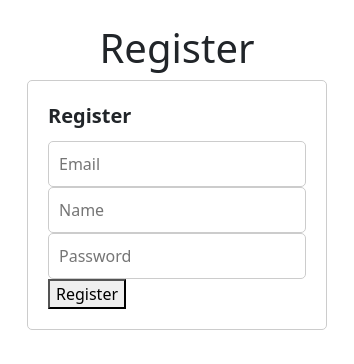
Test case: Register Page › shows an error message if firebase registration fails
Type "test@example.com" into the field with placeholder "Email" at (177, 164), box [48, 141, 306, 187]
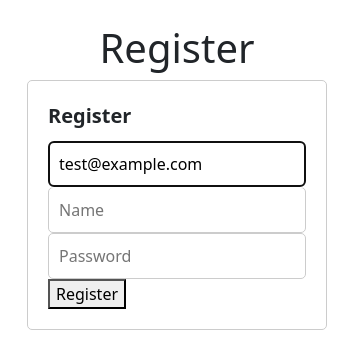
Type "Pankaj" into the field with placeholder "Name" at (177, 210), box [48, 187, 306, 233]
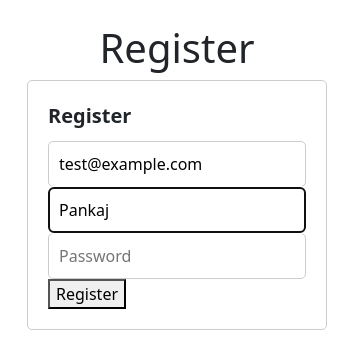
Type "Password123!" into the password field with placeholder "Password" at (177, 256), box [48, 233, 306, 279]
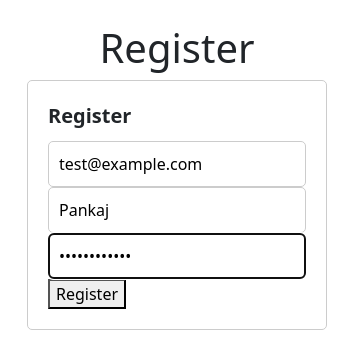
Click the button "Register" at (87, 294), box [48, 279, 126, 309]
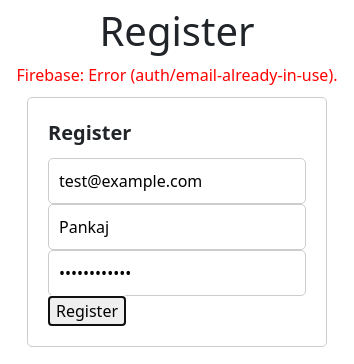
expect the text "Firebase: Error (auth/email-already-in-use)." is shown: met, box [16, 63, 338, 87]
